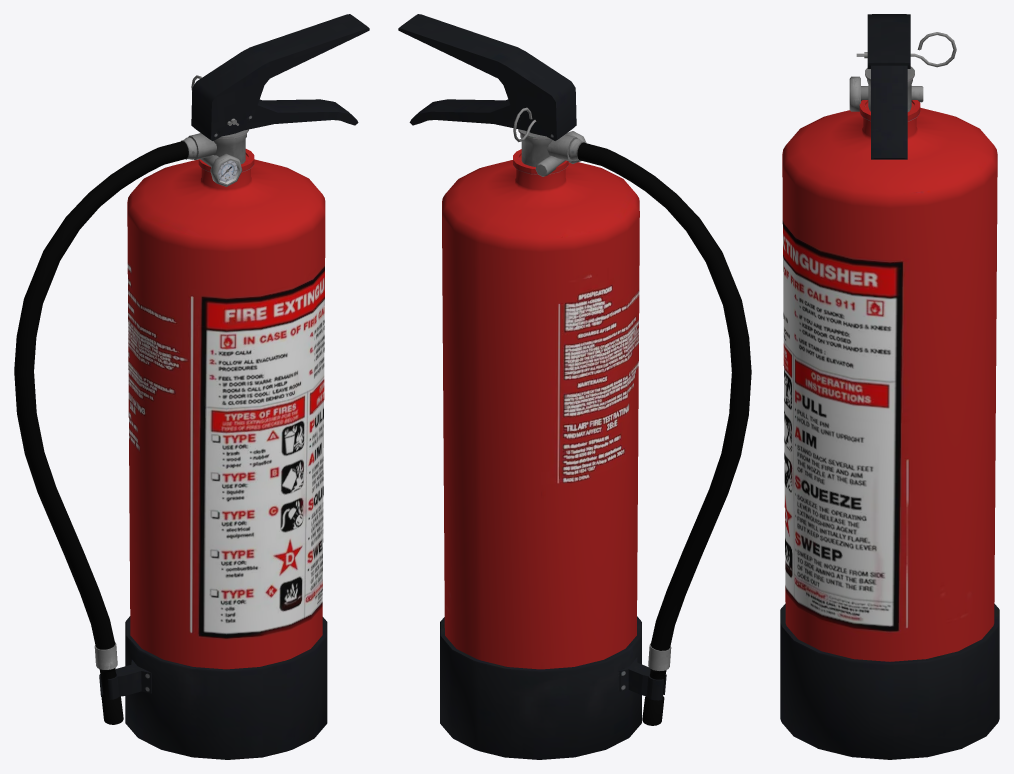
The model's file is fire-extinguisher.glb.
3 renders of one model, left to right at view 1: azimuth 30°, elevation 25°; view 2: azimuth 150°, elevation 25°; view 3: azimuth 270°, elevation 25°, orthographic. The views are drawn at different scales.
Visible parts, largest first — view 1: defaultMaterial; view 2: defaultMaterial; view 3: defaultMaterial.
Part boxes in pixels (box(x1,y1,x2,y2)): defaultMaterial: box(14, 14, 369, 759); defaultMaterial: box(398, 14, 751, 759); defaultMaterial: box(780, 14, 999, 759).
Size of the model in its own units: 1.08 by 2 by 0.5509.
1 material, 1 textured.
